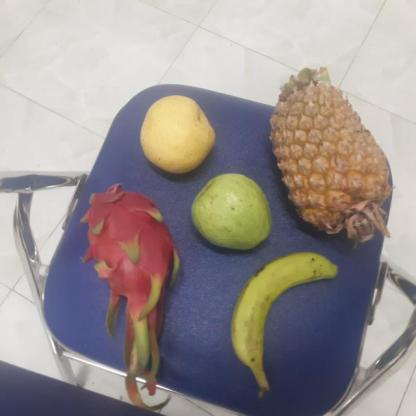banana: (226, 253, 336, 378)
guava: (188, 174, 271, 248)
pear: (136, 96, 218, 174)
pineapple: (270, 77, 388, 240)
pitaya: (78, 188, 181, 318)
